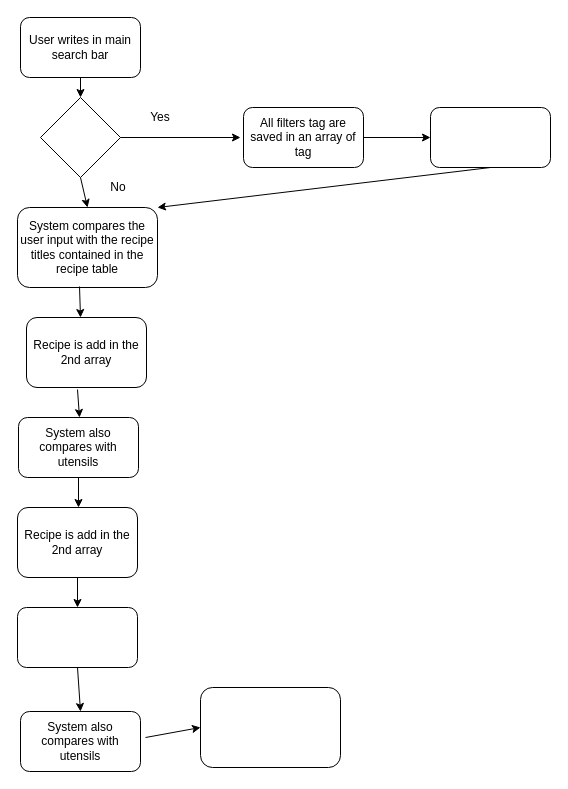
This 568x789 diagram has some shape labels left out. The shapes that lost their labels are listed below. From the top down, each one's centre as x and y in pixels, then its label:
the point at 80,137: Filter(s) exist(s)
the point at 490,137: Recipe table is filtered according to the filters tags
the point at 77,637: System also compares with appliances
the point at 270,727: 2nd array replace first array of recipes
